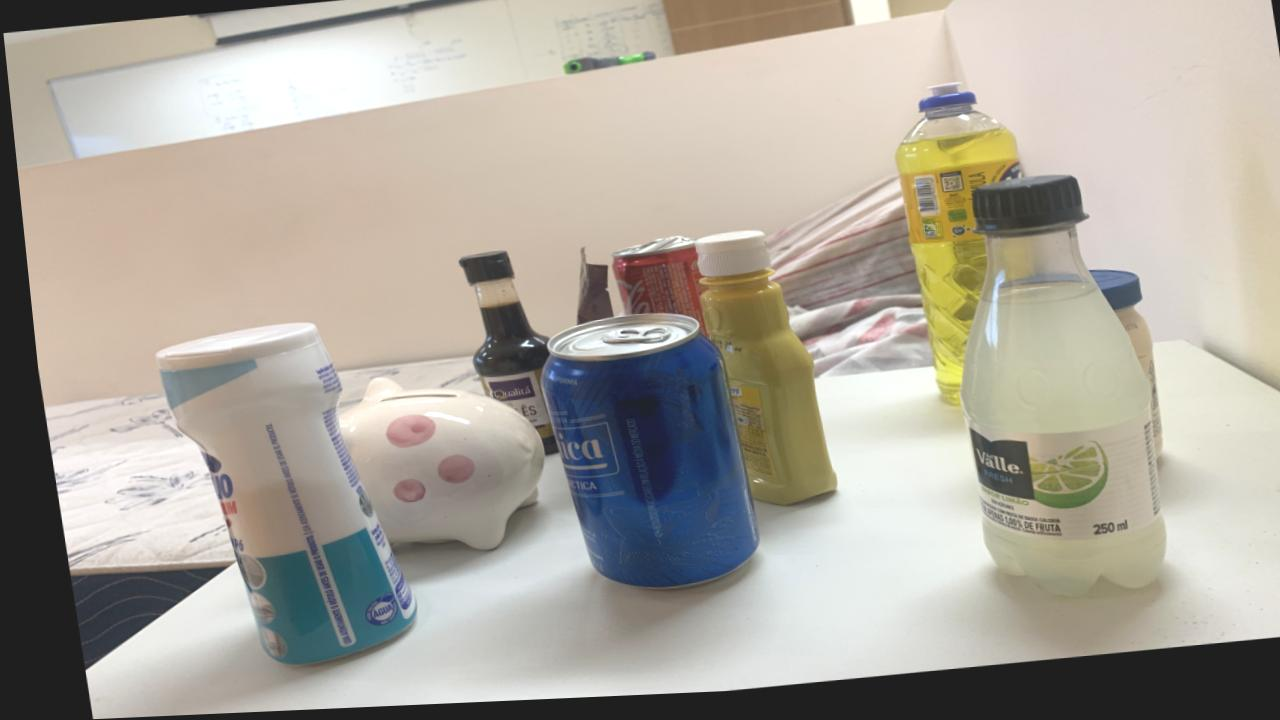Cleaner-Cleanup_Items: (149, 325, 402, 667)
Coffee-Pantry_Items: (569, 253, 607, 329)
Coke-Drinks: (605, 243, 697, 339)
Detergent-Cleanup_Items: (890, 93, 1018, 412)
English_Sauce-Pantry_Items: (453, 256, 547, 459)
Mayonnaise-Pantry_Items: (1082, 279, 1152, 464)
Mustard-Pantry_Items: (688, 237, 826, 512)
Pig_Safe-Miscellaneous: (329, 380, 535, 554), (638, 401, 640, 403)
Soda-Drinks: (950, 186, 1153, 605)
Tonic-Drinks: (532, 319, 746, 594)
